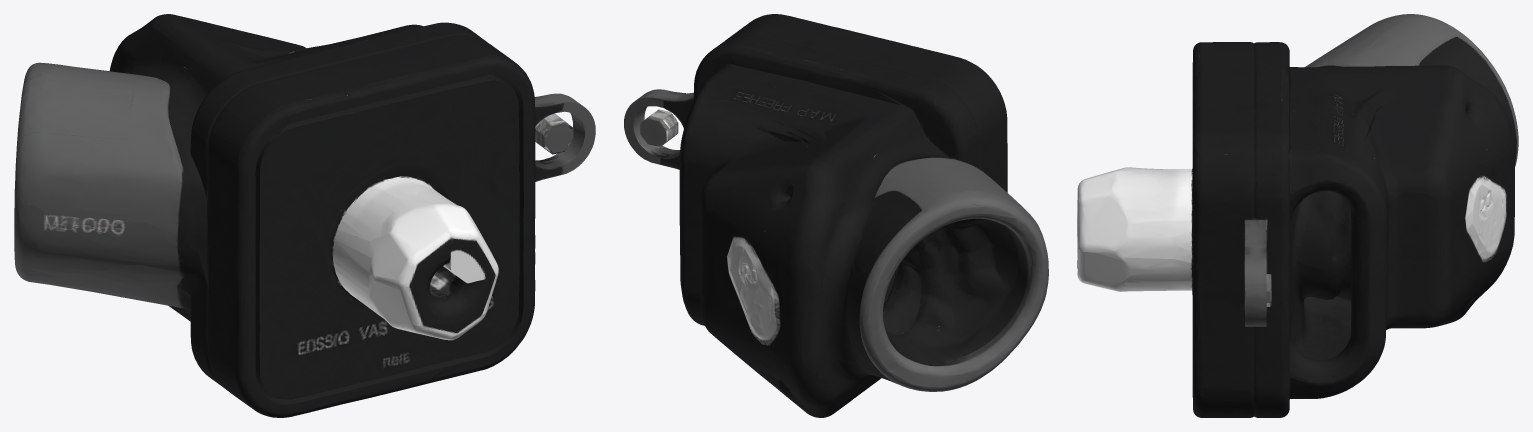
The model's file is map-sensor.glb.
3 renders of one model, left to right at view 1: azimuth 30°, elevation 25°; view 2: azimuth 150°, elevation 25°; view 3: azimuth 270°, elevation 25°, orthographic. The views are drawn at different scales.
Bounding box in the file's own units: 1.9 × 1.1 × 1.56.
Materials: 1 (1 with a texture image).
